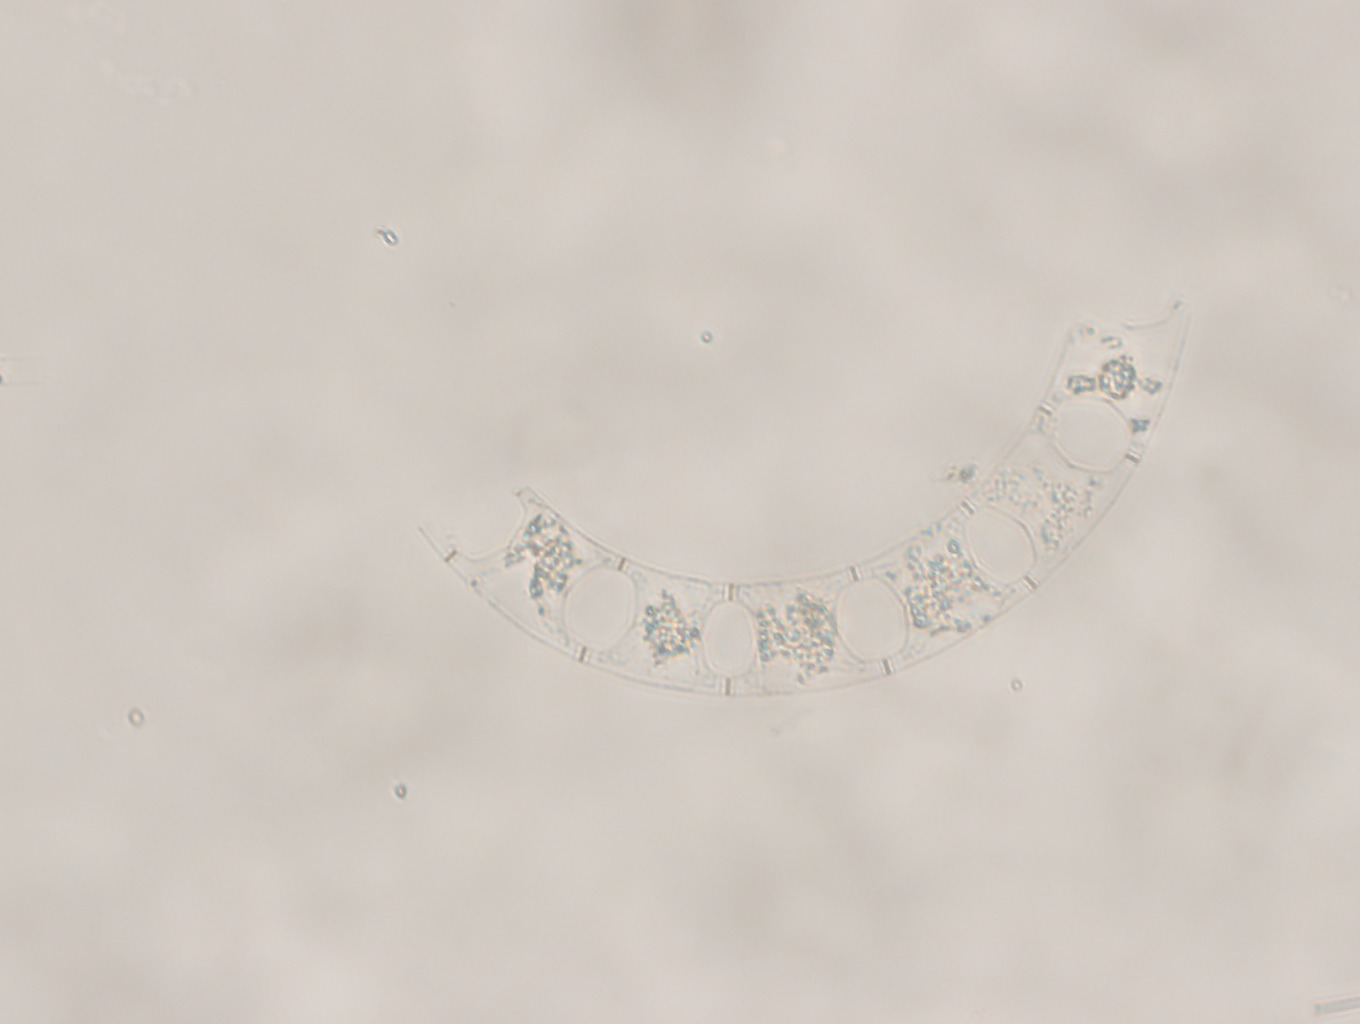eucampia: (413, 285, 1200, 705)
